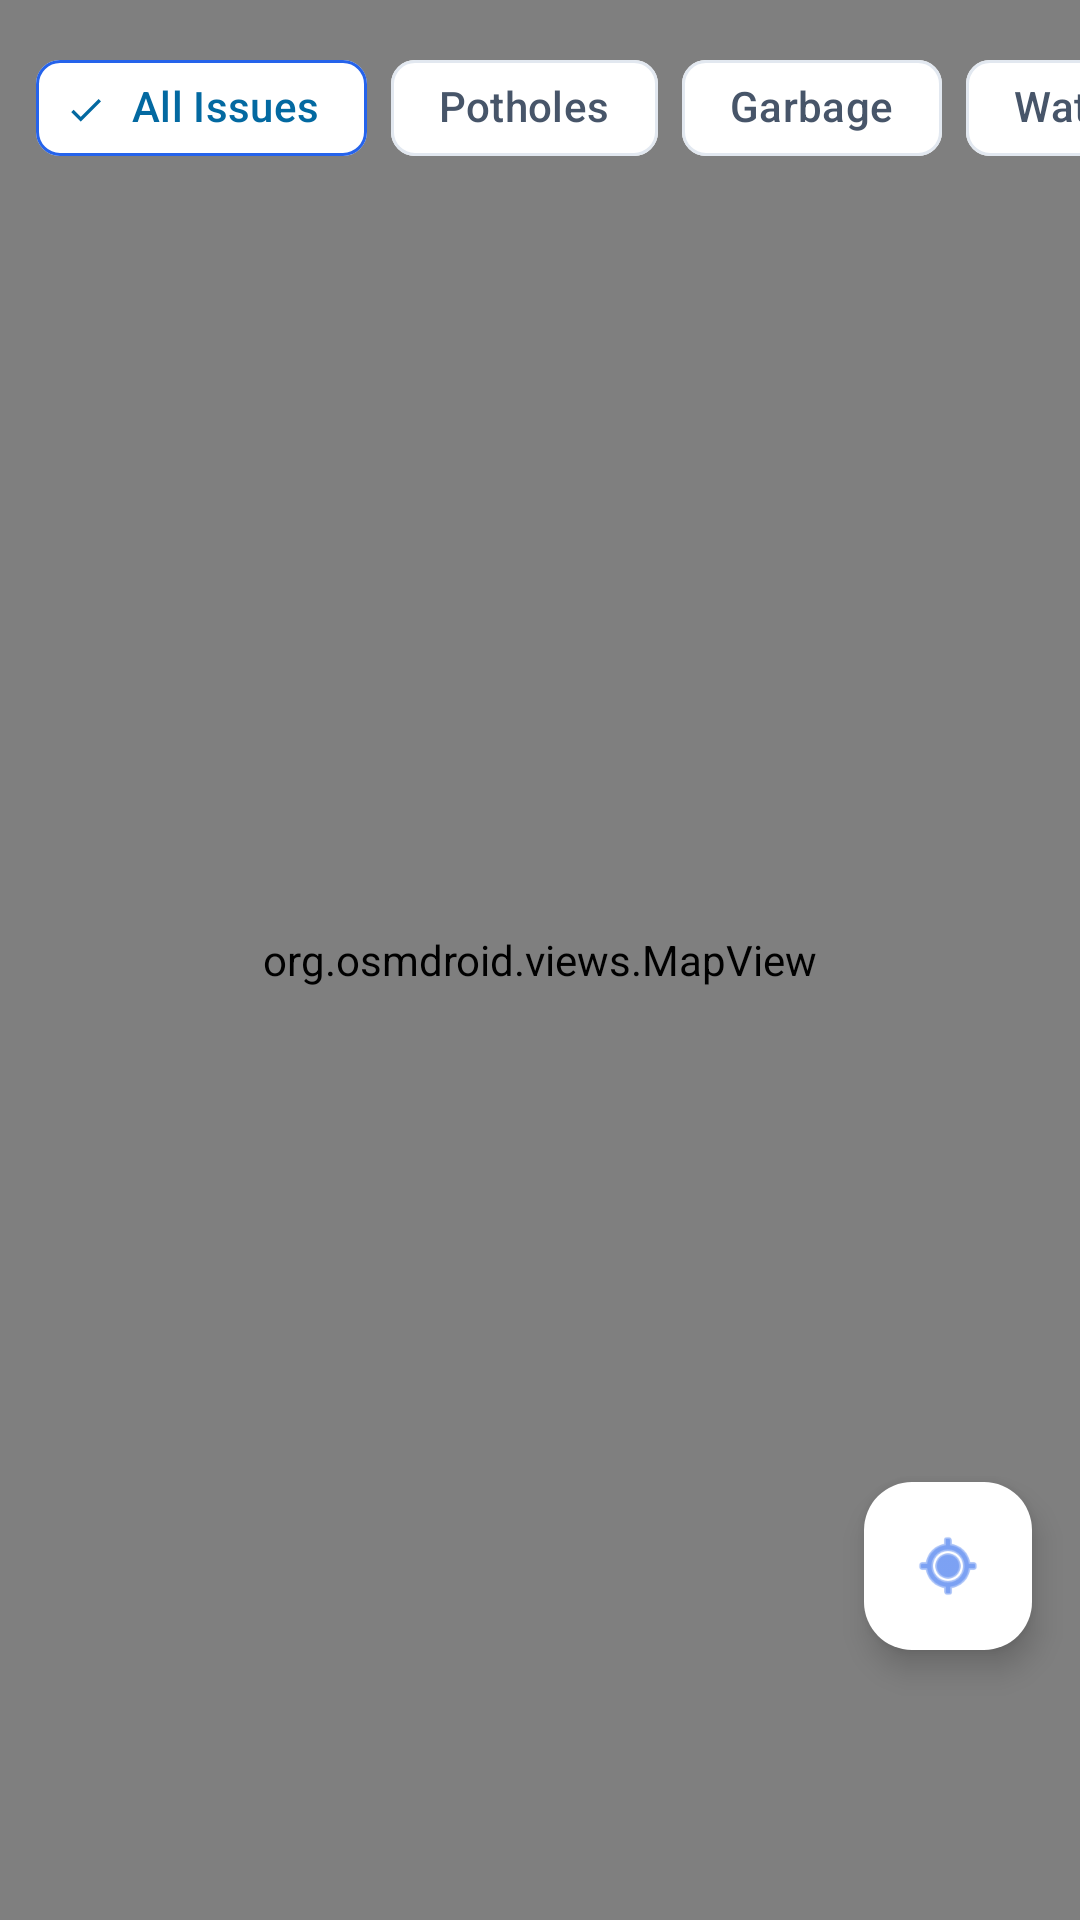

Named icons in this screenshot (1080 × 1920) and their bounding boxes, (x1, y1, x2, y2):
My Location: (864, 1482, 1032, 1650)
